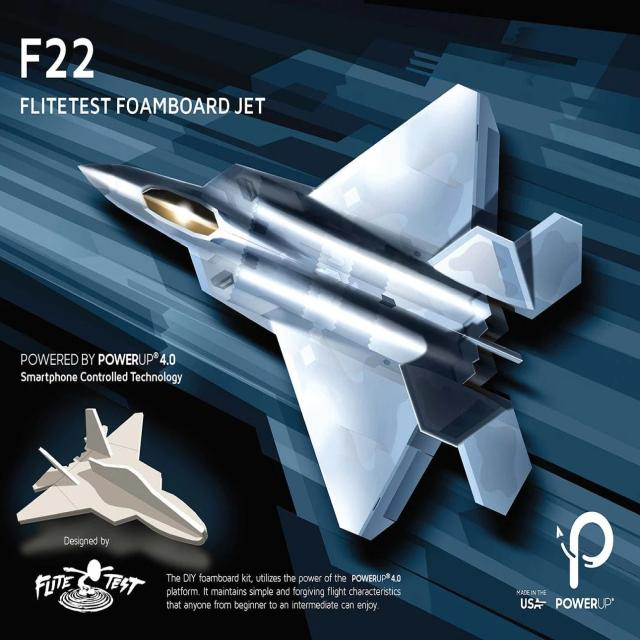F22: (46, 68, 640, 577)
